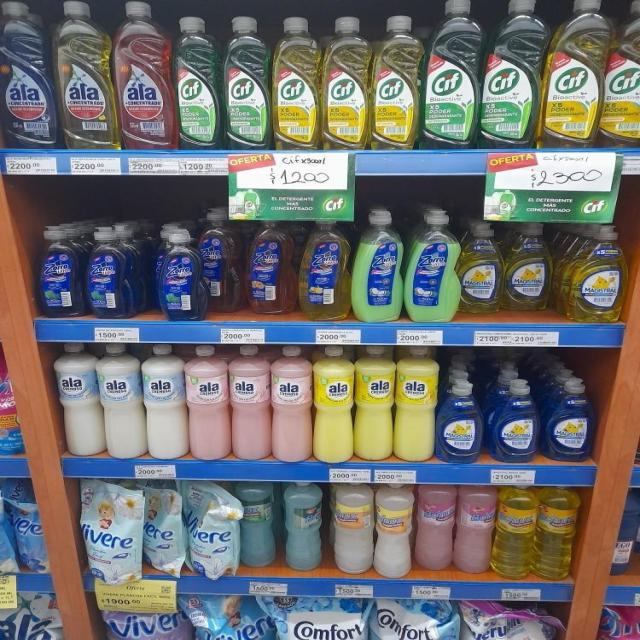ala_conc_amarillo: (56, 0, 114, 149)
ala_conc_azul: (0, 0, 54, 148)
ala_conc_rojo: (116, 0, 174, 151)
ala_crem_amarillo: (395, 344, 437, 464), (314, 344, 354, 464), (354, 344, 394, 464)
ala_crem_blanco: (55, 342, 100, 457), (100, 342, 142, 460), (144, 343, 186, 460)
ala_crem_rosado: (187, 344, 229, 461), (272, 344, 312, 463), (230, 344, 270, 462)
cif_conc_bot_amarilla: (543, 0, 601, 147), (272, 14, 320, 149), (322, 14, 369, 149), (372, 14, 419, 149), (603, 0, 640, 147)
cif_conc_botella_verde: (480, 0, 541, 148), (422, 0, 479, 149), (223, 15, 270, 149), (175, 14, 221, 150)
magistral_con_amarillo: (565, 224, 627, 323), (504, 221, 553, 312), (460, 220, 502, 314)
magistral_con_azul: (488, 378, 539, 464), (544, 378, 595, 462), (438, 378, 484, 464)
zorro: (406, 207, 458, 323), (352, 207, 402, 324), (299, 217, 349, 322), (245, 218, 296, 316)
